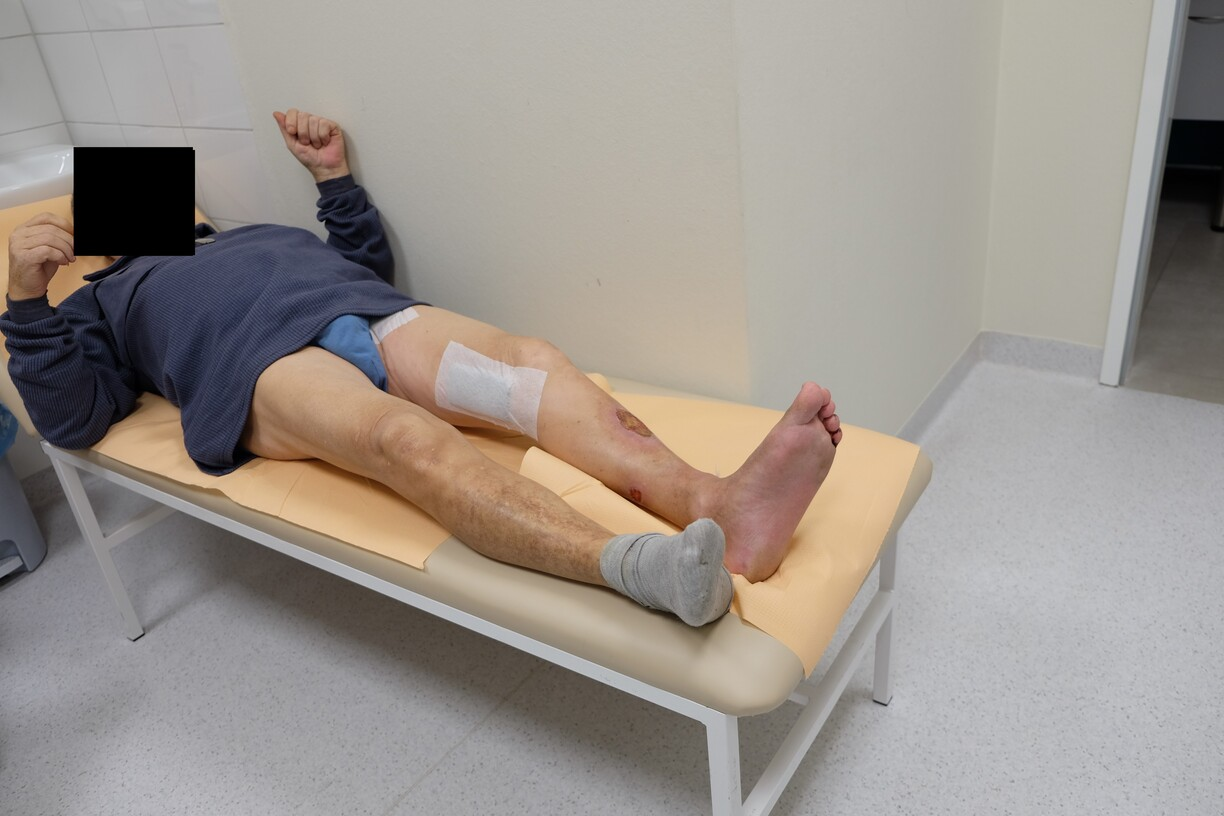wound: (609, 401, 659, 444), (625, 485, 645, 506)
